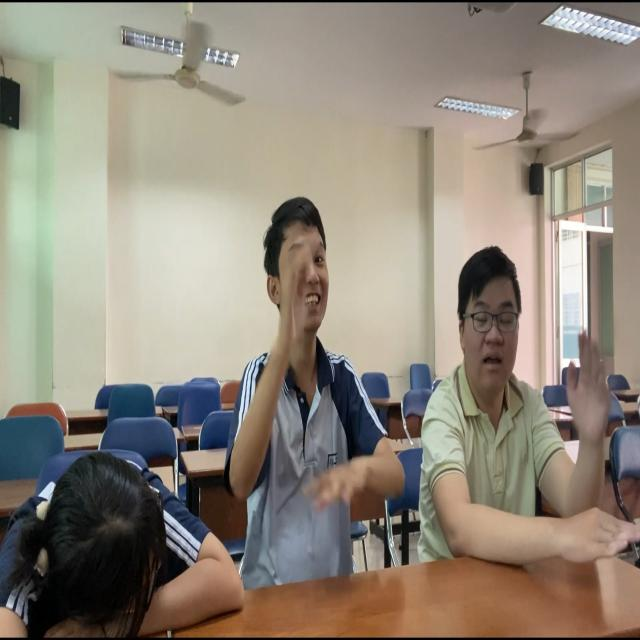raise_hand: (230, 200, 403, 587), (421, 246, 607, 572)
sleep: (1, 444, 243, 640)
